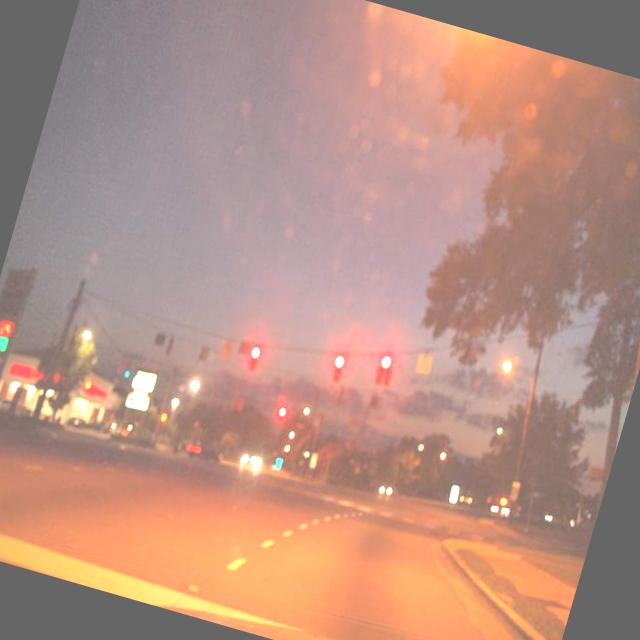Vehicle: (107, 413, 158, 448), (183, 435, 225, 463), (486, 491, 515, 524), (377, 479, 400, 498)
